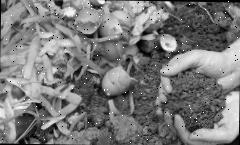organic: (13, 54, 51, 94), (101, 66, 142, 98), (183, 78, 216, 116), (2, 5, 42, 34), (100, 12, 126, 40)
